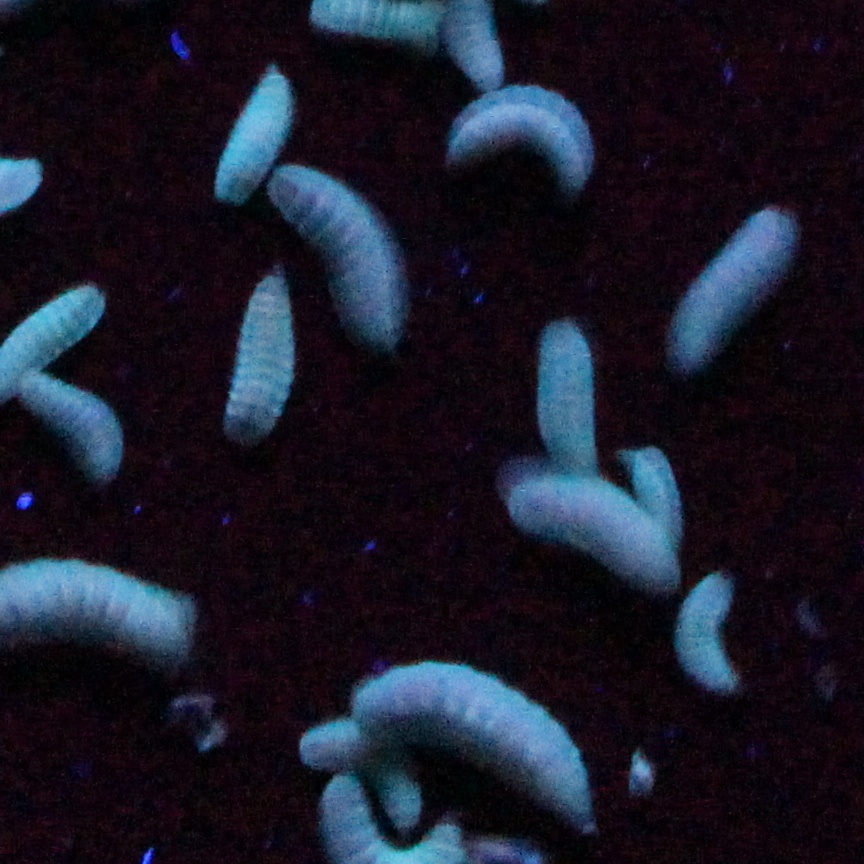larve: (297, 659, 595, 828), (508, 472, 682, 599), (673, 212, 793, 376), (453, 88, 593, 192), (23, 362, 120, 482), (228, 274, 297, 441), (213, 68, 295, 208), (533, 316, 599, 474), (675, 574, 737, 685), (628, 439, 677, 534)
